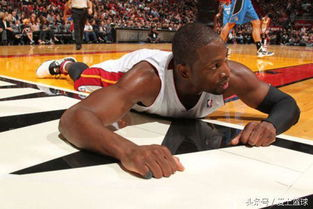fall: (46, 11, 294, 177)
